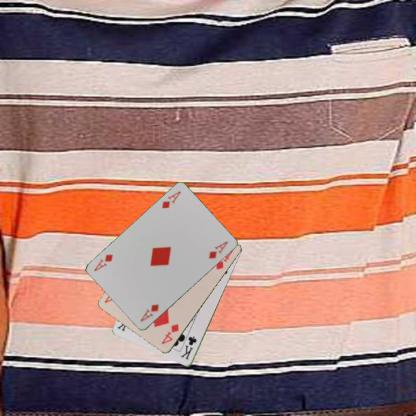4d: (159, 321, 180, 346)
Ad: (159, 188, 182, 210), (138, 302, 160, 323)
Kc: (178, 334, 198, 361)
